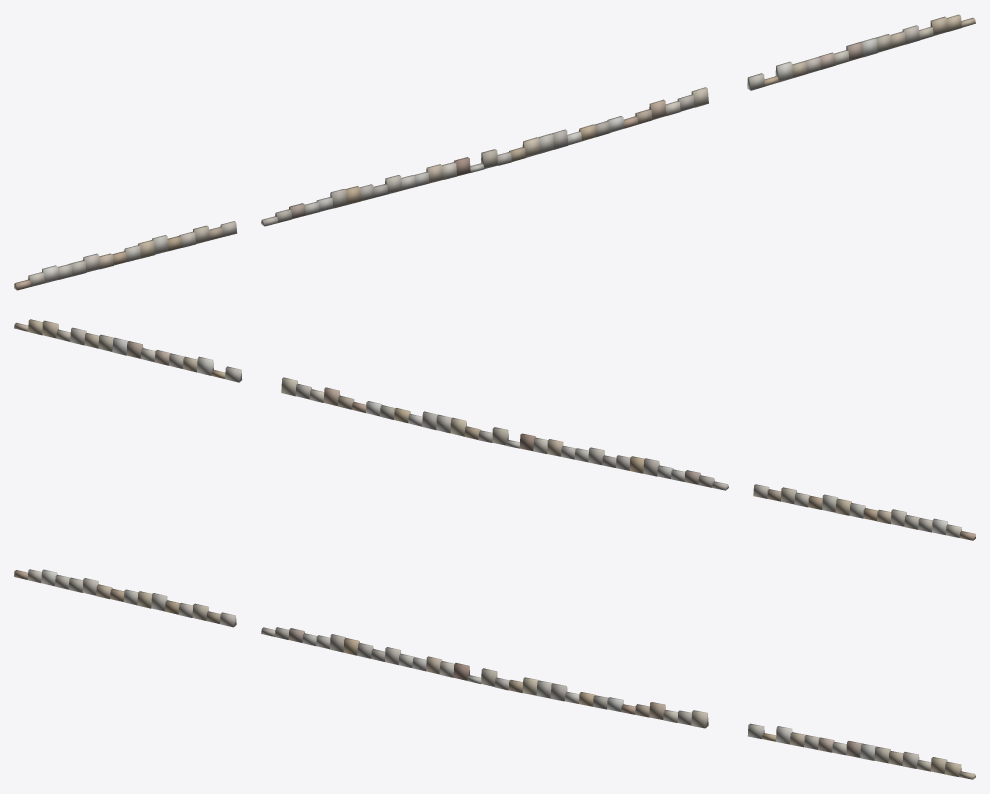
Rendered from farm_15_-1_collision.glb.
The picture shows the model from 3 angles, top to bottom: view 1: azimuth 30°, elevation 25°; view 2: azimuth 150°, elevation 25°; view 3: azimuth 330°, elevation 25°; orthographic projection. The views are drawn at different scales.
Parts seen in each view (by area): view 1: geometry_0; view 2: geometry_0; view 3: geometry_0.
Part boxes in pixels (x1,y1,x2,y2): geometry_0: (14, 14, 975, 290); geometry_0: (14, 319, 975, 540); geometry_0: (14, 569, 975, 779).
Bounding box in the file's own units: 109 × 2.59 × 6.11.
